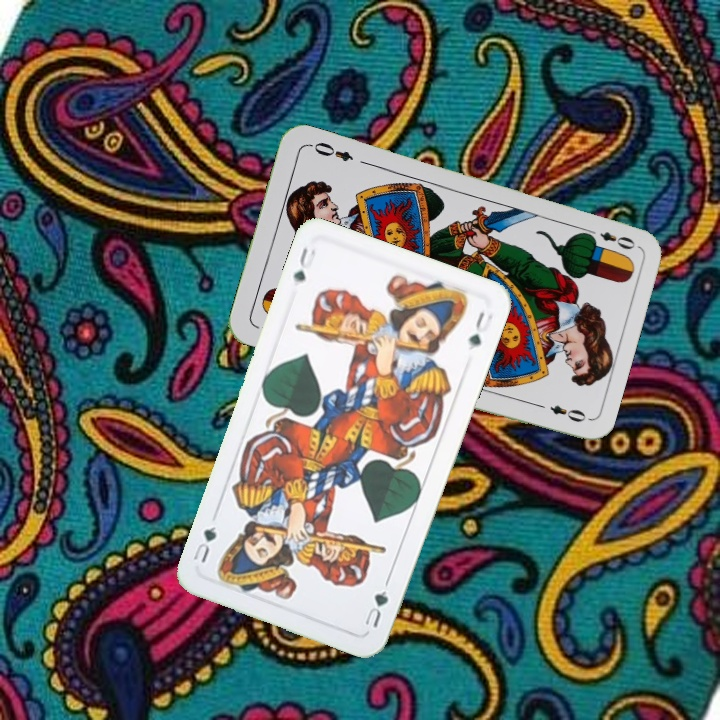EO: (581, 224, 638, 253)
GU: (360, 586, 391, 630), (289, 243, 318, 285)
